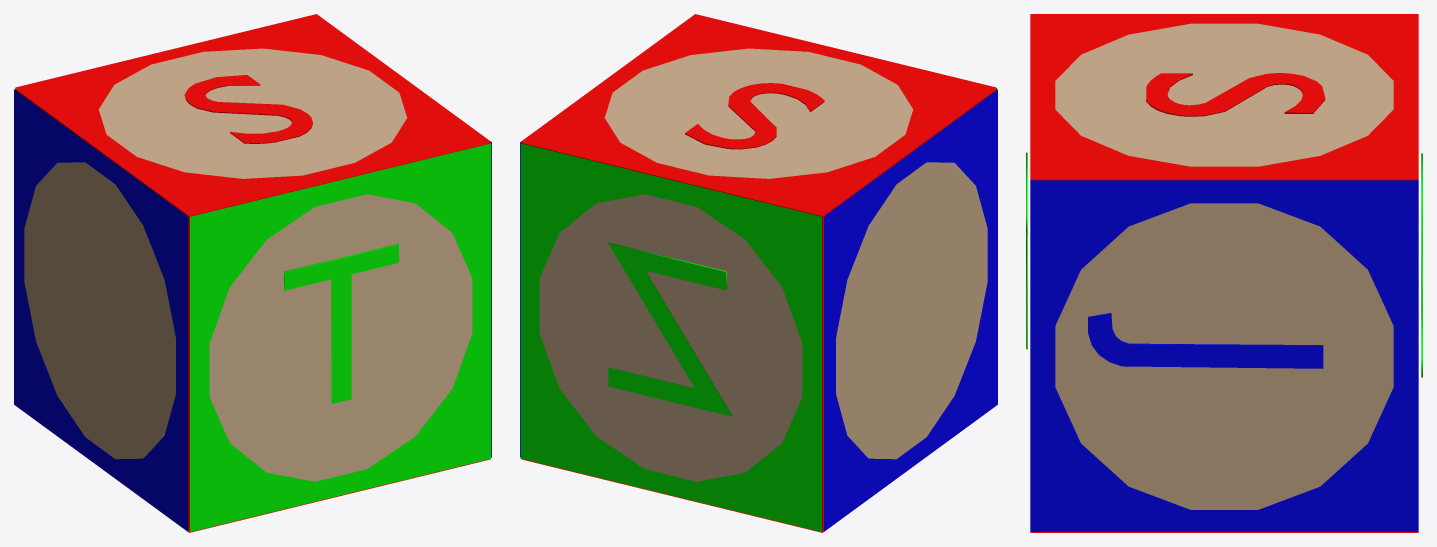
3 renders of one model, left to right at view 1: azimuth 30°, elevation 25°; view 2: azimuth 150°, elevation 25°; view 3: azimuth 270°, elevation 25°, orthographic. The views are drawn at different scales.
Parts seen in each view (by area): view 1: cube; view 2: cube; view 3: cube.
Boxes of the visible parts, x1,y1,x2,y2 form: cube: (14,14,491,532); cube: (520,14,997,532); cube: (1026,14,1422,532).
Bounding box in the file's own units: 0.0458 × 0.046 × 0.046.
